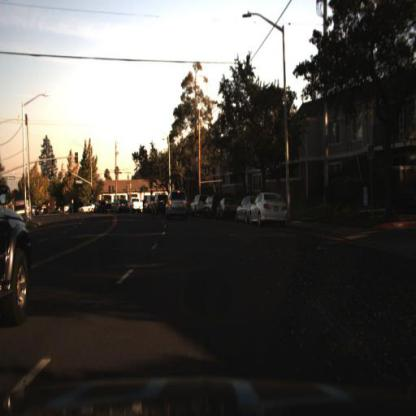car: (1, 198, 33, 330), (250, 188, 289, 229), (165, 187, 190, 219), (233, 195, 254, 226), (189, 194, 209, 221), (92, 192, 113, 216), (215, 195, 235, 220), (217, 196, 236, 222), (112, 196, 132, 218), (206, 193, 220, 220), (79, 201, 98, 218), (132, 195, 146, 216), (154, 192, 166, 216), (143, 197, 155, 215)
trafficLight-Red: (49, 163, 57, 179), (68, 168, 76, 182), (91, 183, 96, 196)
